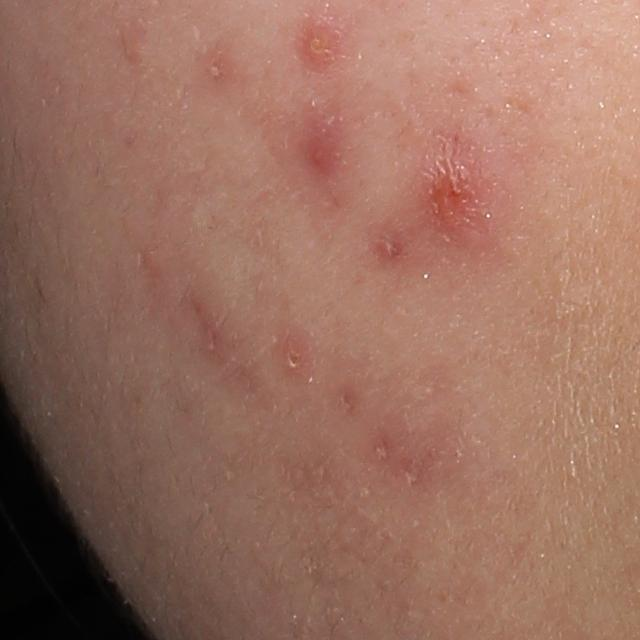papule: (425, 156, 481, 230), (306, 130, 341, 169)
